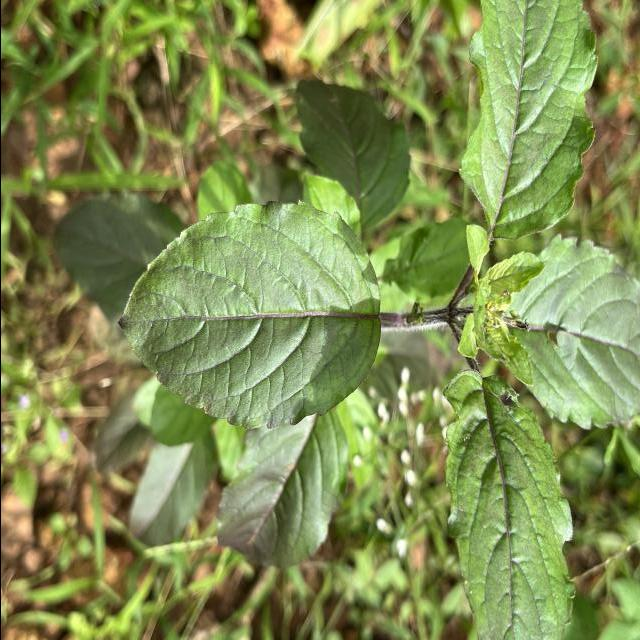Ocimum tenuiflorum: (114, 195, 383, 432)
